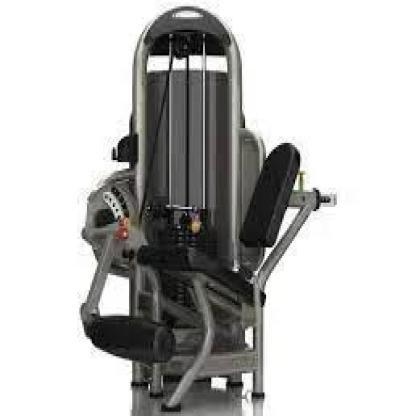leg extension: (62, 5, 338, 416)
